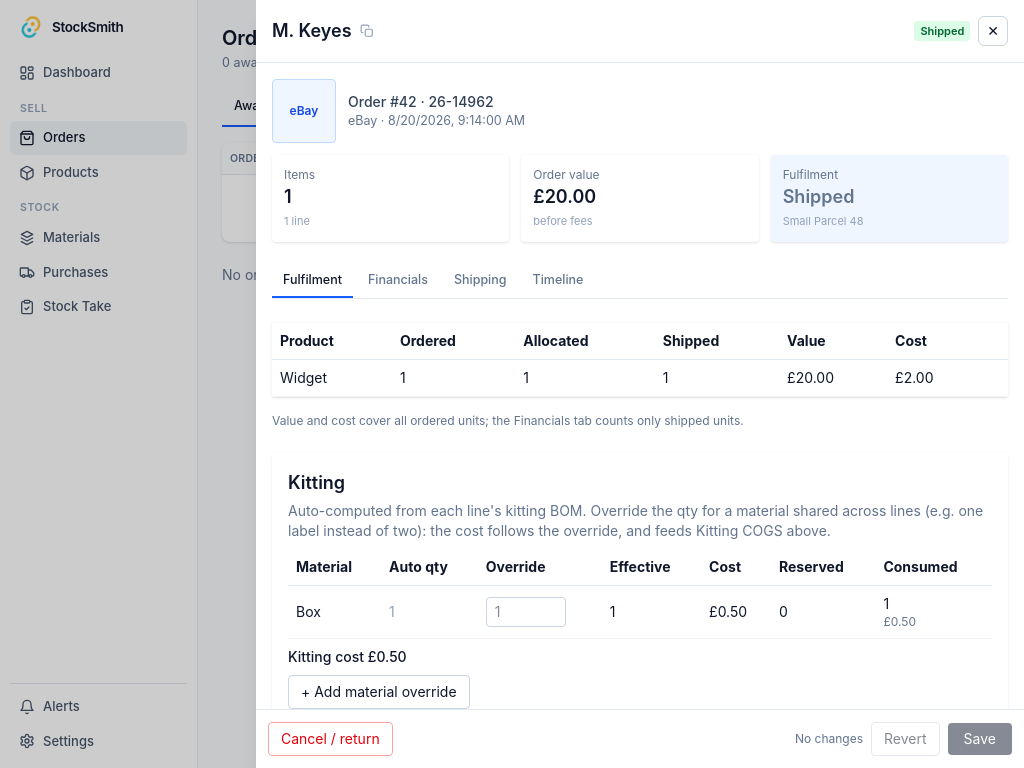
Test: shows replacement figures on the Financials tab and actual vs estimate on Shipping
The width and height of the screenshot is (1024, 768).
Expected: the heading "M. Keyes" is shown, [272,17,352,45]
Click the button "Financials" at (398,282), box [357,266,439,298]
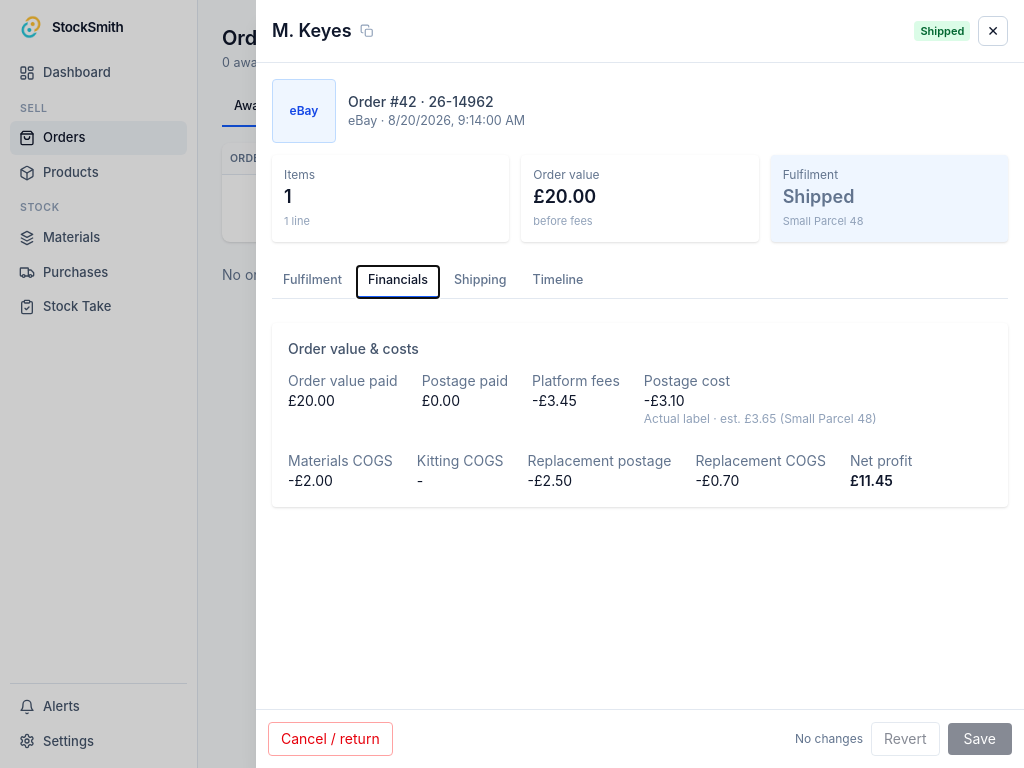
Expected: the text "Replacement postage" is shown, [528,450,671,470]
Expected: the text "Replacement COGS" is shown, [695,450,826,470]
Expected: the text "Actual label · est. £3.65 (Small Parcel 48)" is shown, [644,410,877,426]
Click the button "Shipping" at (480,282), box [443,266,518,298]
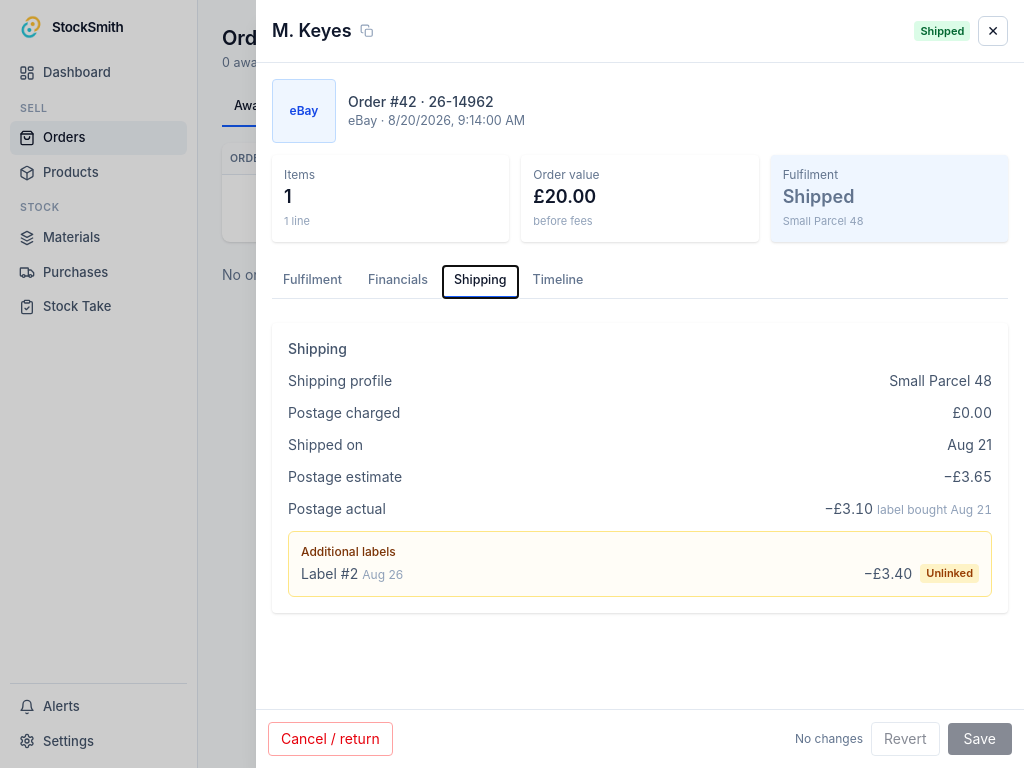
Expected: the text "Postage estimate" is shown, [288,468,402,484]
Expected: the text "Postage actual" is shown, [288,500,386,516]
Expected: the text "Additional labels" is shown, [301,544,396,558]
